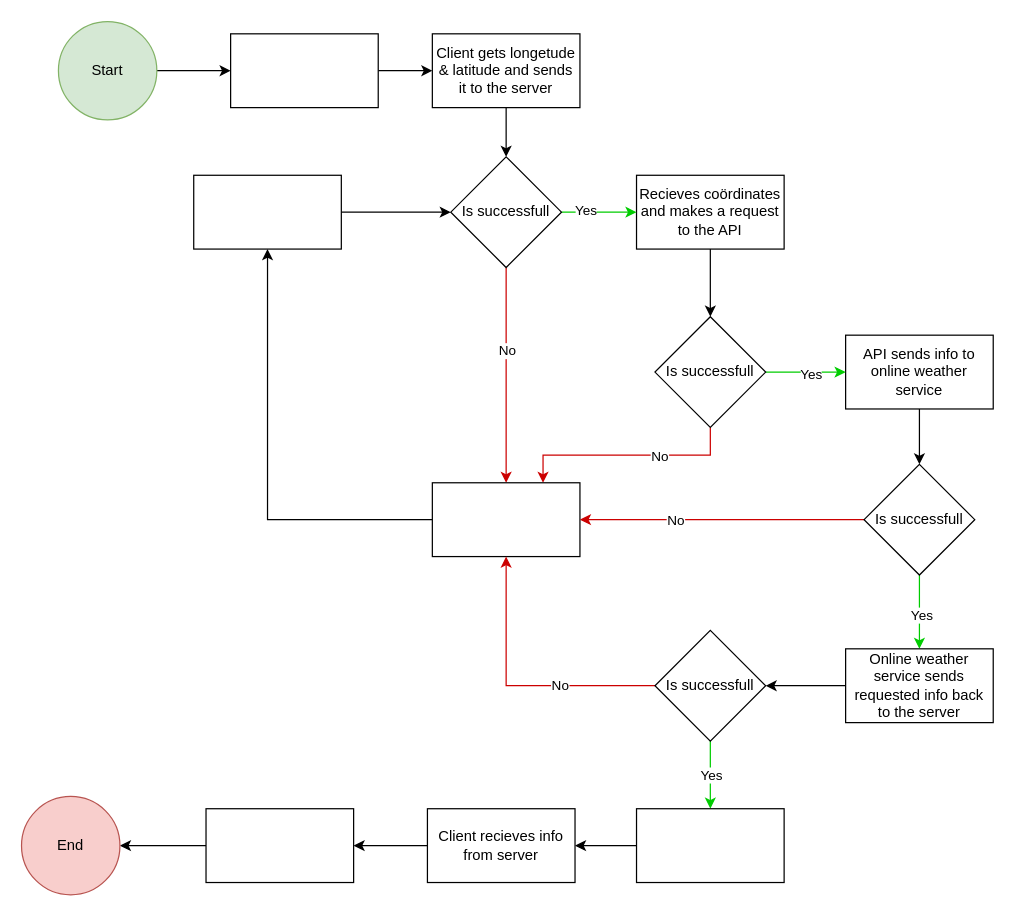
Some shapes in this 1015 by 916 pixel diagram are drawn without their labels. Here are the shapes that lost their labels. From the top down, the centre of each, then its label:
At (x=303, y=70): "User clicks on map".
At (x=266, y=211): "User tries again".
At (x=505, y=519): "Error message displays".
At (x=279, y=845): "Client displays the weather info for the next 12 hours for the selected location".
At (x=709, y=845): "Server sends info back to client".
